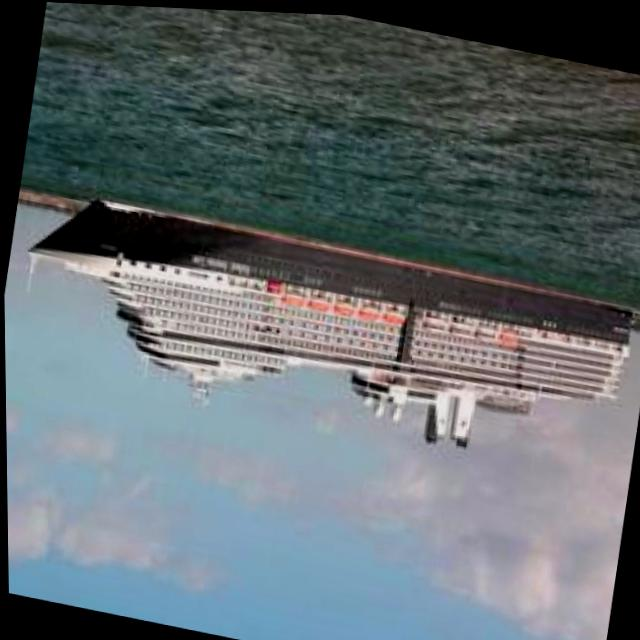ship2: (27, 195, 634, 446)
